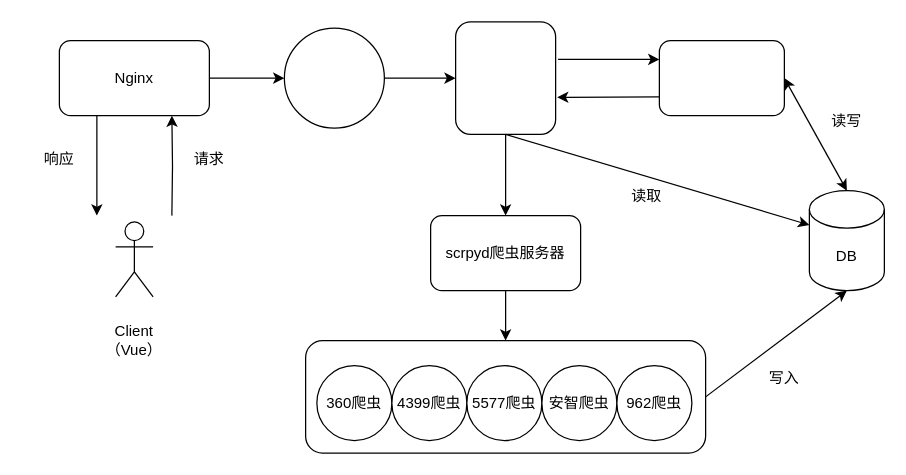
Some shapes in this 906 by 475 pixel diagram are drawn without their labels. The shapes that lost their labels are listed below. From the top down, each one's centre as x and y in pixels, then its label:
At point 333,77: "WSGI".
At point 505,77: "Django".
At point 721,77: "celery异步任务、定时任务".
At point 133,259: "Actor".
